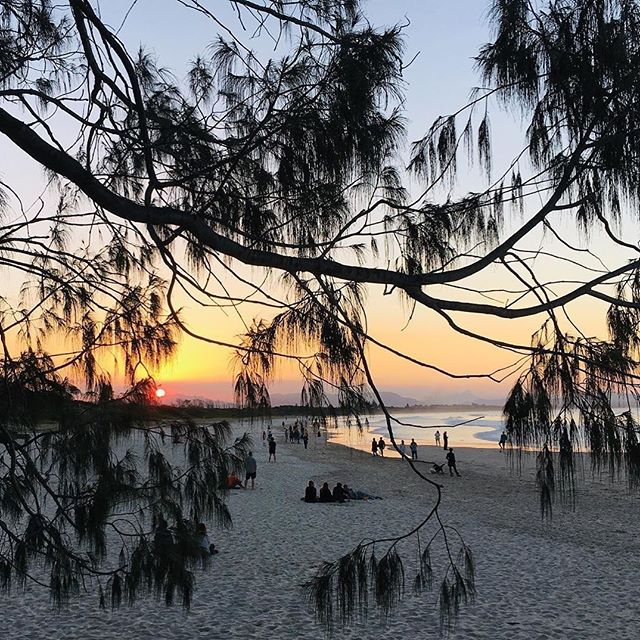beach: (1, 440, 640, 640)
sea: (379, 409, 640, 460)
sky: (1, 1, 629, 370)
